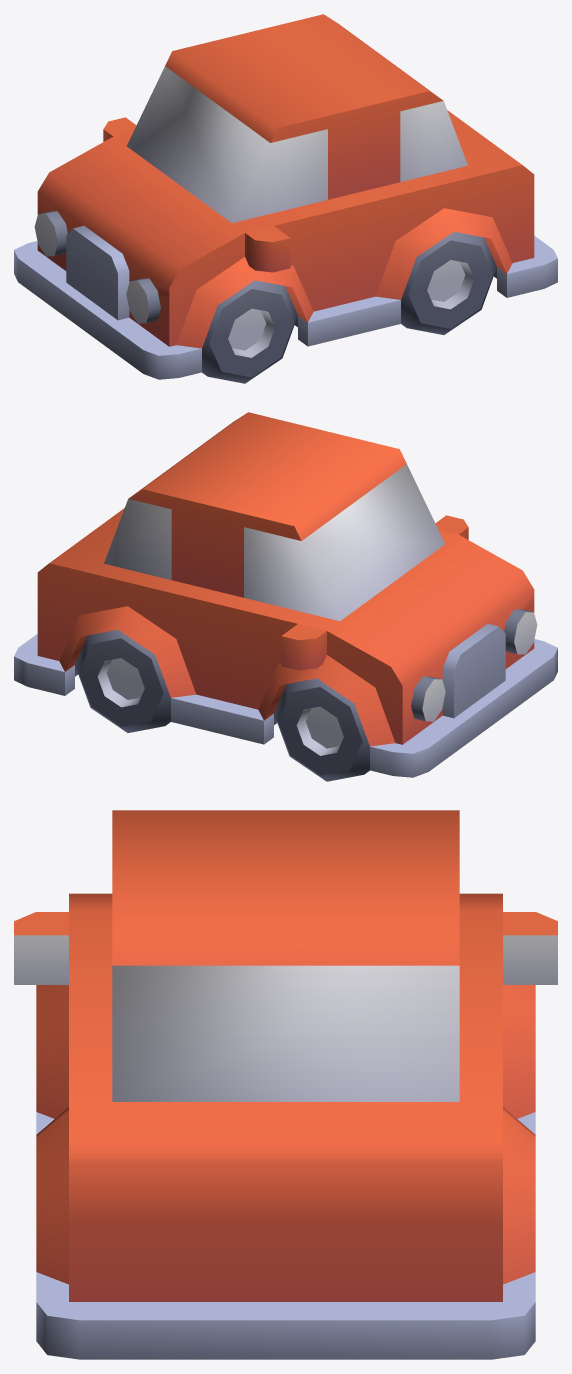
File: vehicle.fbx
3 views of the same model, one above another, from view 1: azimuth 30°, elevation 25°; view 2: azimuth 150°, elevation 25°; view 3: azimuth 270°, elevation 25° (orthographic). The views are drawn at different scales.
Parts seen in each view (by area): view 1: body, Group, wheel-front-left, wheel-back-left; view 2: body, Group, wheel-front-right, wheel-back-right; view 3: body, Group.
Part boxes in pixels (x1=…): body: x1=14, y1=14, x2=557, y2=379; Group: x1=37, y1=110, x2=534, y2=346; wheel-front-left: x1=202, y1=280, x2=297, y2=383; wheel-back-left: x1=401, y1=231, x2=496, y2=334; body: x1=14, y1=412, x2=557, y2=777; Group: x1=37, y1=508, x2=534, y2=744; wheel-front-right: x1=274, y1=678, x2=369, y2=781; wheel-back-right: x1=75, y1=629, x2=170, y2=732; body: x1=14, y1=810, x2=557, y2=1359; Group: x1=69, y1=893, x2=502, y2=1301.
Bounding box in the file's own units: 142 × 77.7 × 99.
